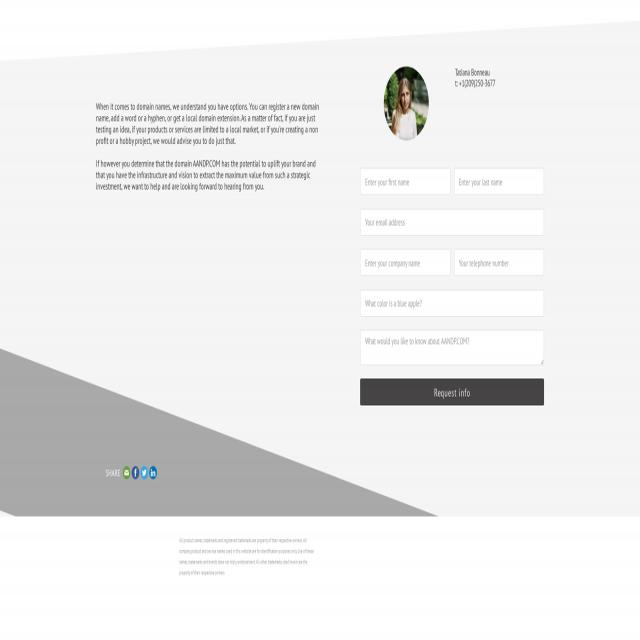button: (360, 378, 544, 406), (384, 66, 428, 140), (123, 466, 131, 480), (132, 466, 140, 480), (140, 466, 148, 480), (149, 466, 157, 480)
field: (360, 330, 544, 365), (360, 208, 544, 236), (360, 290, 544, 316), (360, 168, 450, 195), (454, 168, 544, 195), (360, 249, 450, 276), (454, 249, 544, 276)
